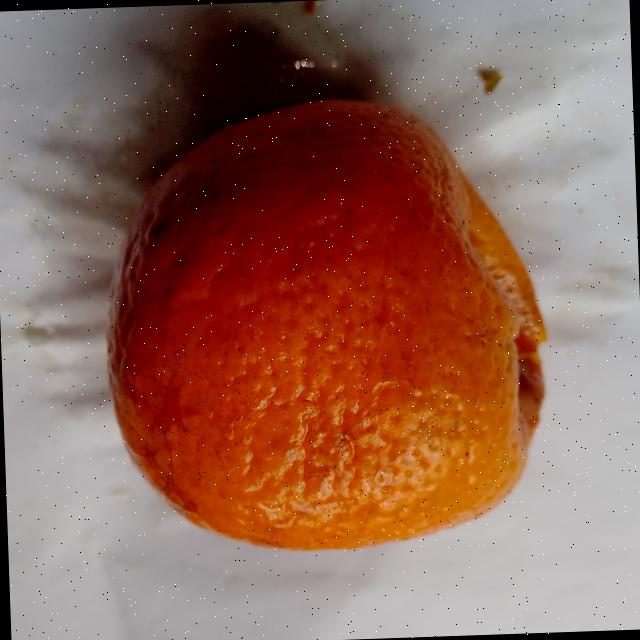Rotten: (96, 93, 554, 562)
